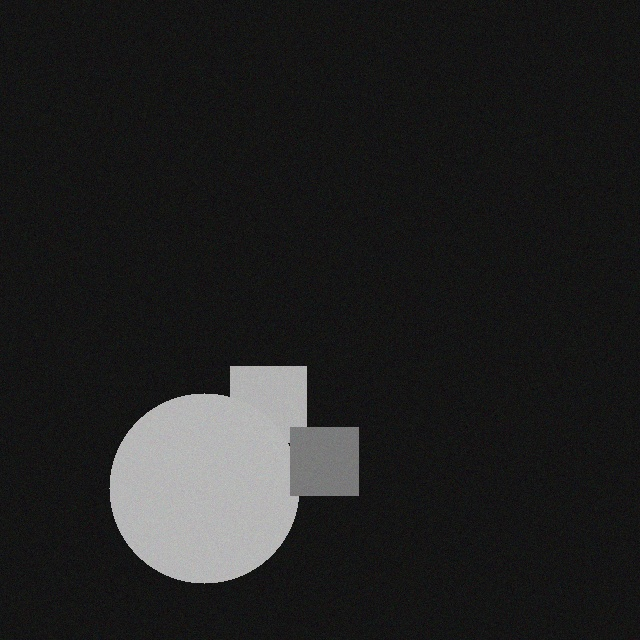circle: (103, 399, 293, 589)
square: (224, 372, 300, 448), (284, 433, 352, 501)
